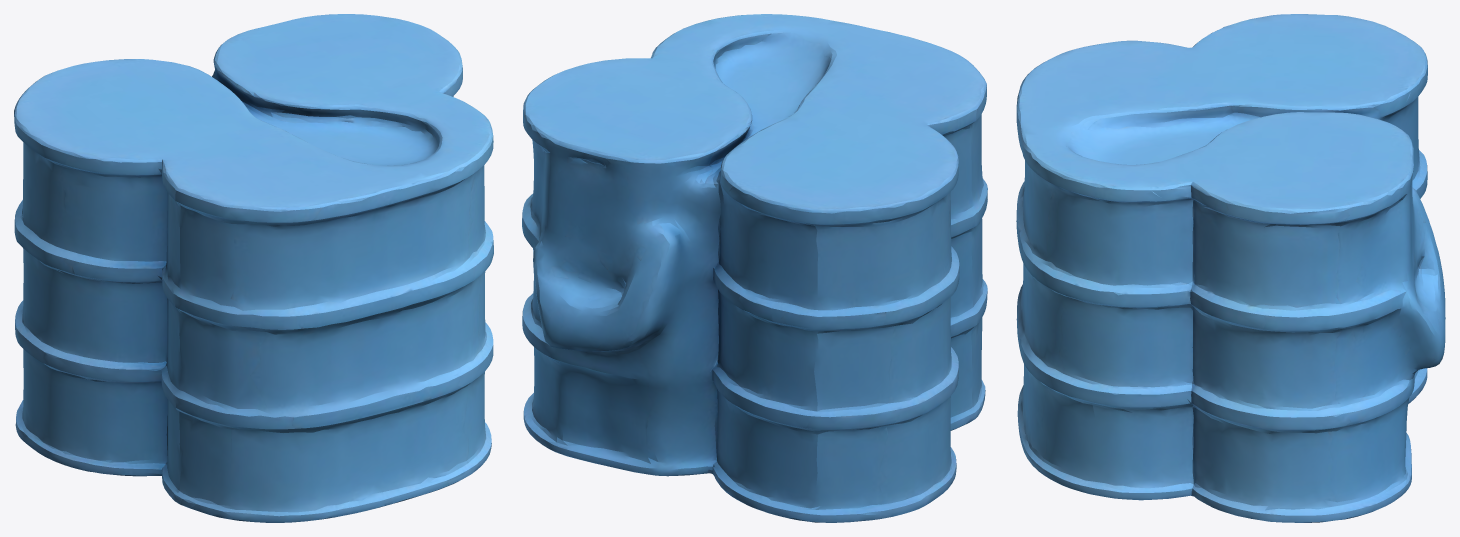
The model's file is oil_barrels.glb.
3 renders of one model, left to right at view 1: azimuth 30°, elevation 25°; view 2: azimuth 150°, elevation 25°; view 3: azimuth 270°, elevation 25°, orthographic.
Visible parts, largest first — view 1: oil_barrels; view 2: oil_barrels; view 3: oil_barrels.
Boxes of the visible parts, x1=… form: oil_barrels: x1=14, y1=14, x2=493, y2=522; oil_barrels: x1=522, y1=14, x2=987, y2=522; oil_barrels: x1=1016, y1=14, x2=1445, y2=522.
Size of the model in its own units: 0.9383 by 0.6933 by 0.8545.
1 material, 1 textured.
